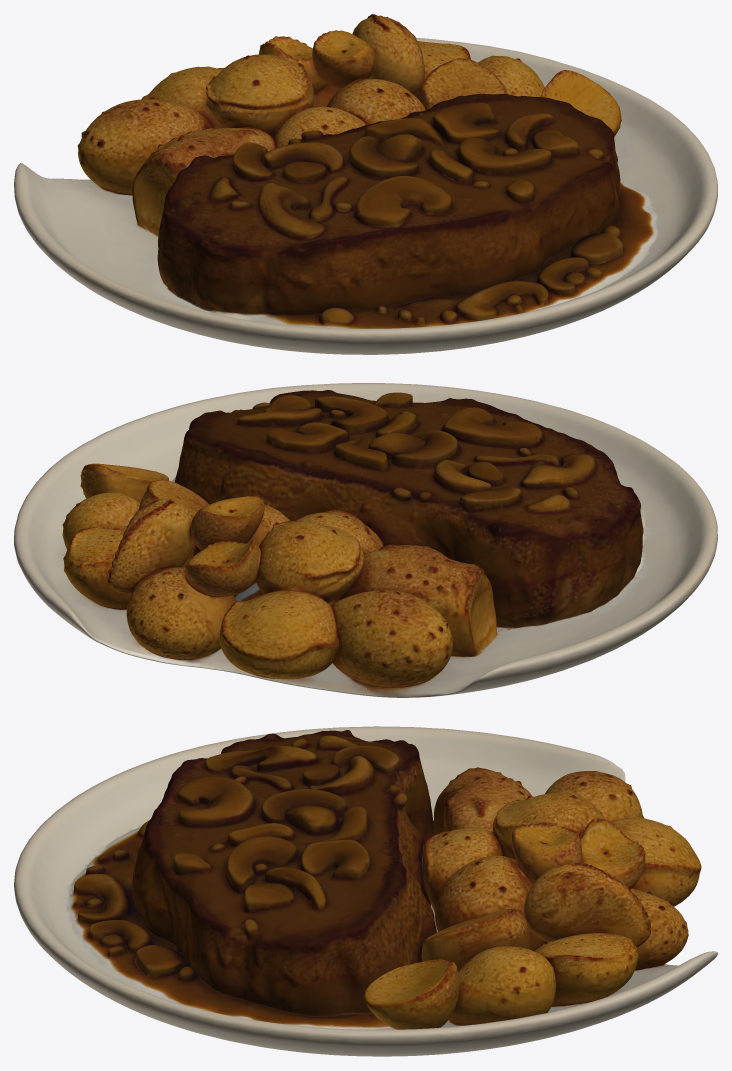
3 views of the same model, one above another, from view 1: azimuth 30°, elevation 25°; view 2: azimuth 150°, elevation 25°; view 3: azimuth 270°, elevation 25° (orthographic). The views are drawn at different scales.
Parts seen in each view (by area): view 1: tripo_node_c71990b3-1d86-4c50-843d-c7a17f734a8b; view 2: tripo_node_c71990b3-1d86-4c50-843d-c7a17f734a8b; view 3: tripo_node_c71990b3-1d86-4c50-843d-c7a17f734a8b.
Part boxes in pixels (box(x1,y1,x2,y2)): tripo_node_c71990b3-1d86-4c50-843d-c7a17f734a8b: box(14, 14, 717, 354); tripo_node_c71990b3-1d86-4c50-843d-c7a17f734a8b: box(14, 383, 717, 697); tripo_node_c71990b3-1d86-4c50-843d-c7a17f734a8b: box(14, 726, 717, 1056).
Bounding box in the file's own units: 0.9799 × 0.2098 × 0.9419.
1 material, 1 textured.
